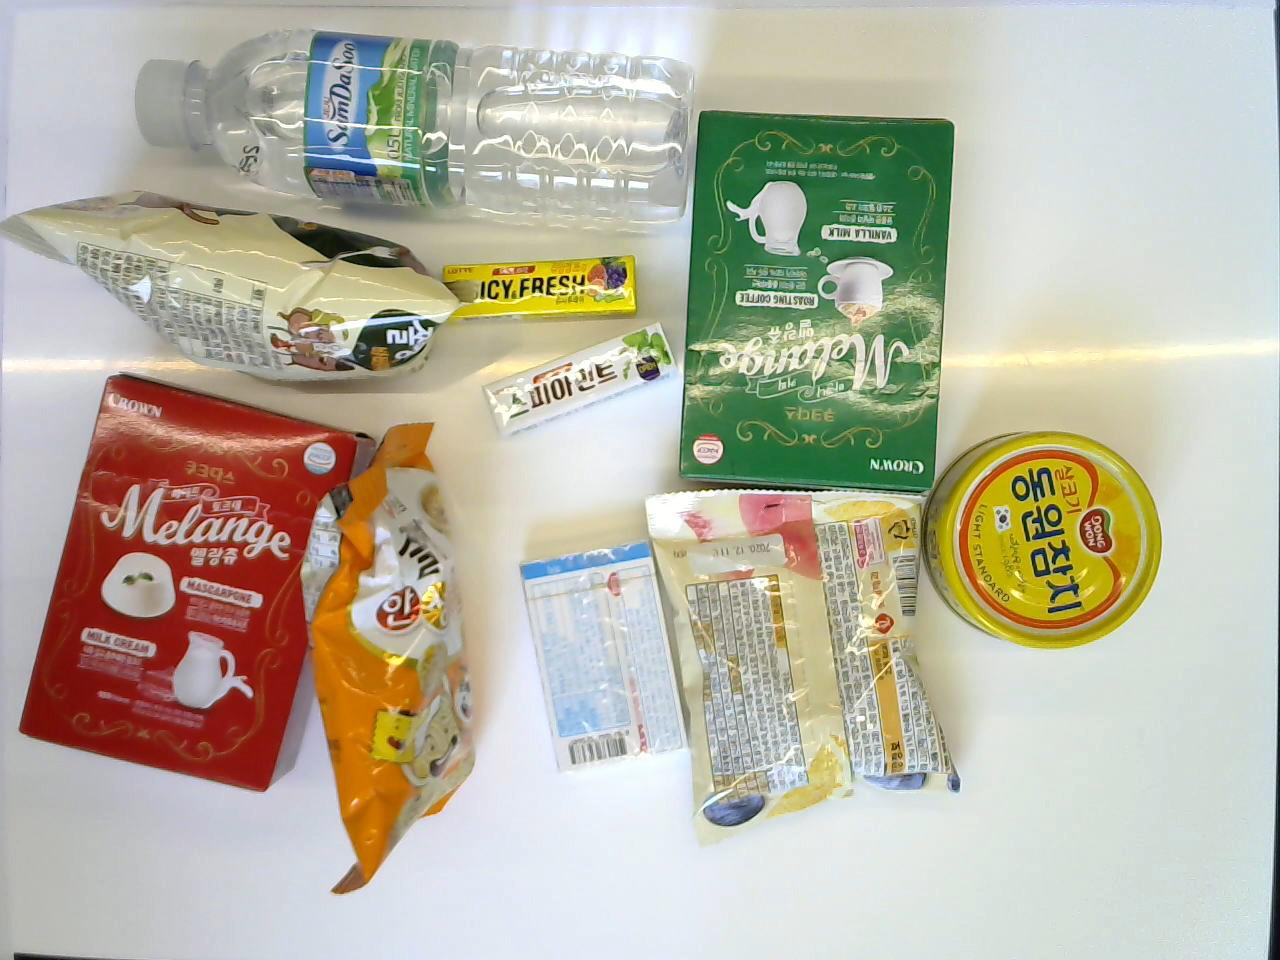ID_gum: (518, 537, 687, 775)
couque_coffee: (678, 110, 952, 496)
couque_white: (18, 373, 382, 792)
gumi_gumi: (641, 480, 963, 849)
jjolbyung_noodle: (294, 422, 476, 894)
jjolbyung_ori: (0, 184, 477, 386)
juicyfresh: (441, 245, 638, 324)
samdasu: (133, 23, 692, 234)
spearmint: (480, 322, 677, 436)
tuna: (921, 430, 1165, 653)
